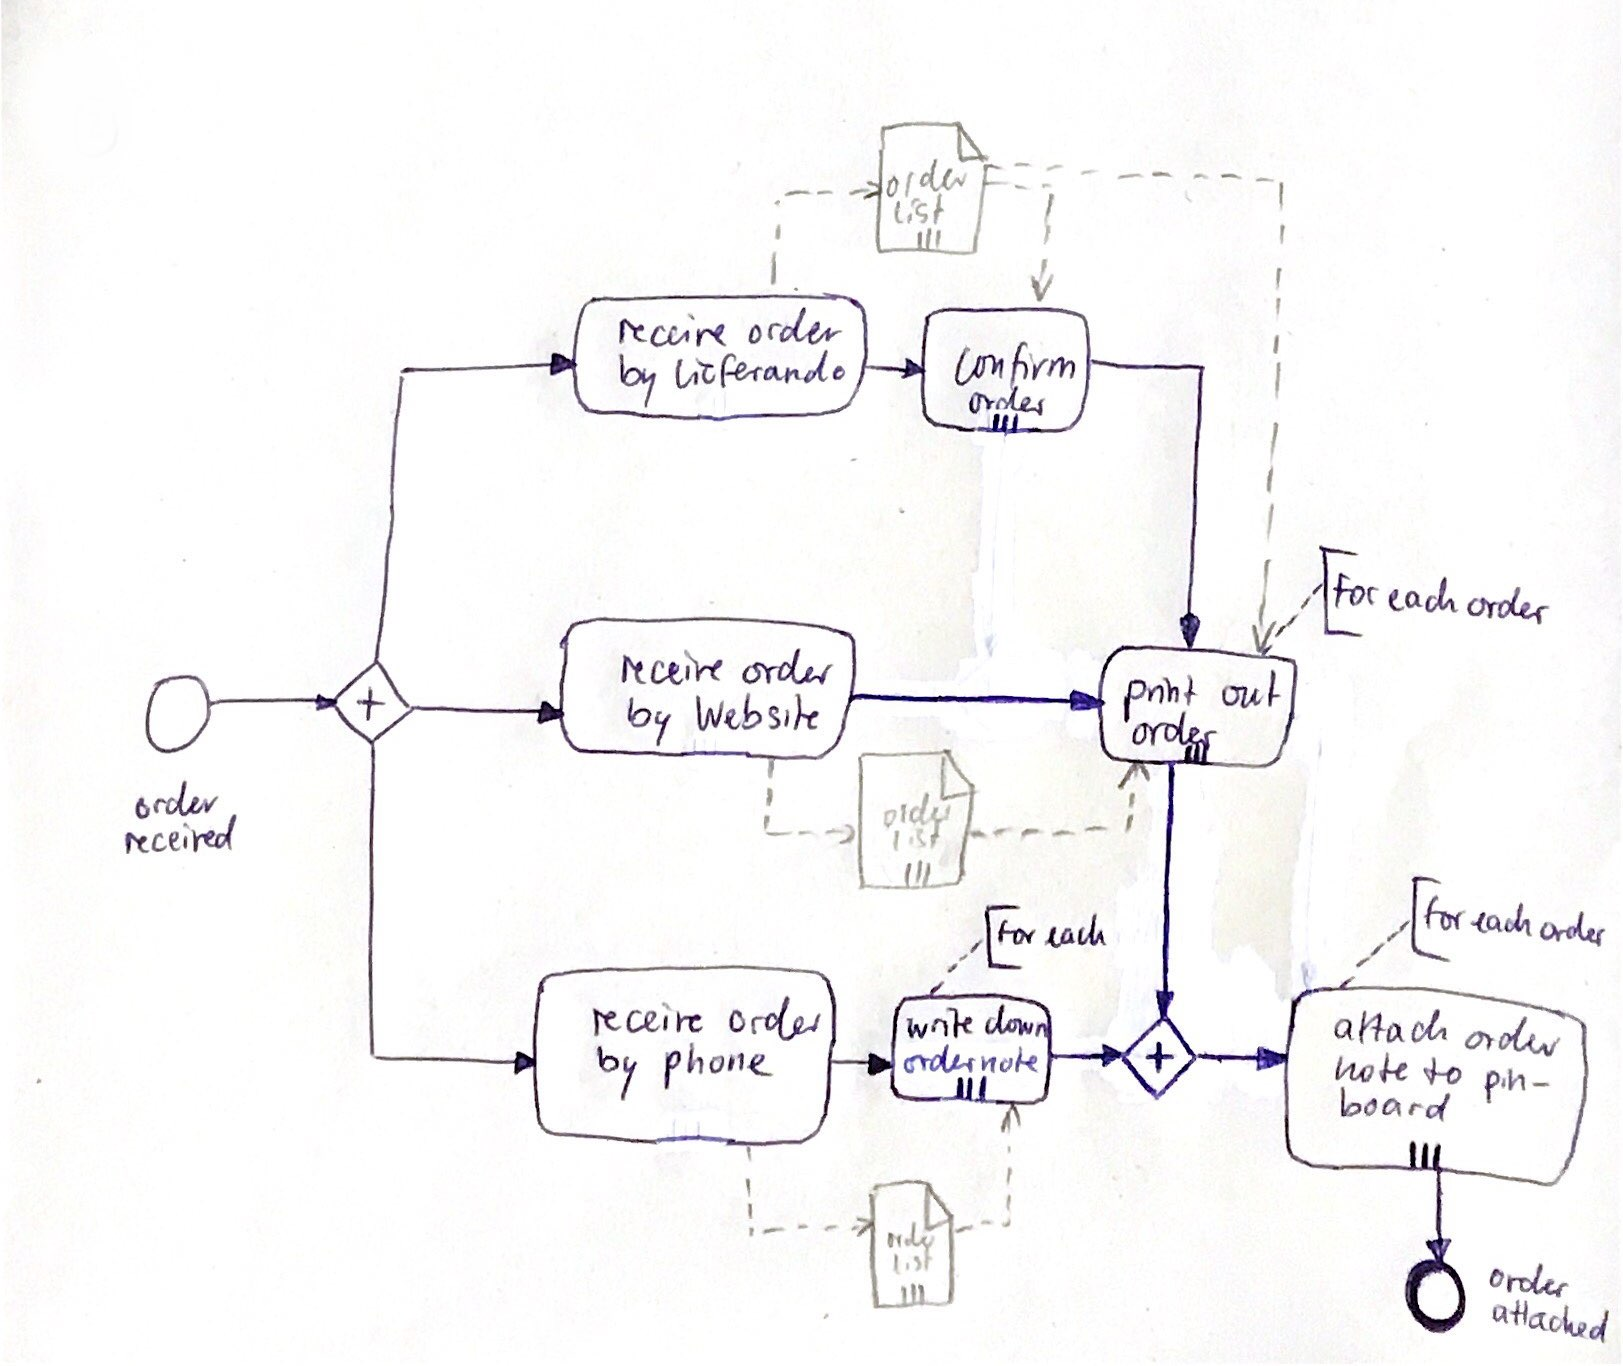For: (1330, 568, 1383, 617)
III: (906, 221, 952, 256), (1175, 740, 1218, 764), (893, 1281, 929, 1308), (900, 858, 936, 884), (986, 411, 1024, 434)
Lieferando: (671, 352, 851, 396)
Website: (694, 687, 824, 734)
attach: (1329, 1006, 1452, 1052)
attached: (1490, 1297, 1616, 1348)
board: (1337, 1085, 1456, 1123)
by: (592, 1042, 648, 1103), (620, 692, 679, 745), (616, 351, 661, 407)
confirm: (948, 340, 1080, 388)
down: (984, 1007, 1049, 1043)
each: (1385, 573, 1463, 622), (1040, 907, 1110, 954), (1470, 901, 1535, 940)
for: (1422, 890, 1466, 939), (994, 913, 1040, 951)
list: (886, 194, 954, 225), (890, 825, 946, 856), (887, 1248, 936, 1277)
note: (1334, 1050, 1414, 1090)
order: (1462, 1015, 1565, 1062), (725, 999, 828, 1041), (744, 308, 845, 350), (737, 650, 837, 692), (1460, 583, 1553, 627), (883, 154, 974, 199), (130, 779, 222, 819), (1534, 904, 1609, 949), (1488, 1262, 1573, 1301), (1129, 714, 1222, 749), (877, 790, 956, 827), (965, 389, 1050, 416), (878, 1221, 943, 1251)
ordernote: (900, 1048, 1042, 1077)
out: (1217, 669, 1286, 713)
phone: (656, 1041, 774, 1092)
pin-: (1482, 1062, 1558, 1104)
print: (1119, 674, 1204, 720)
receive: (585, 1001, 717, 1039), (610, 312, 736, 351), (612, 652, 734, 690)
received: (121, 817, 241, 861)
to: (1414, 1052, 1466, 1091)
write: (904, 1006, 979, 1043)
